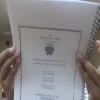notebook: (3, 0, 99, 99)
